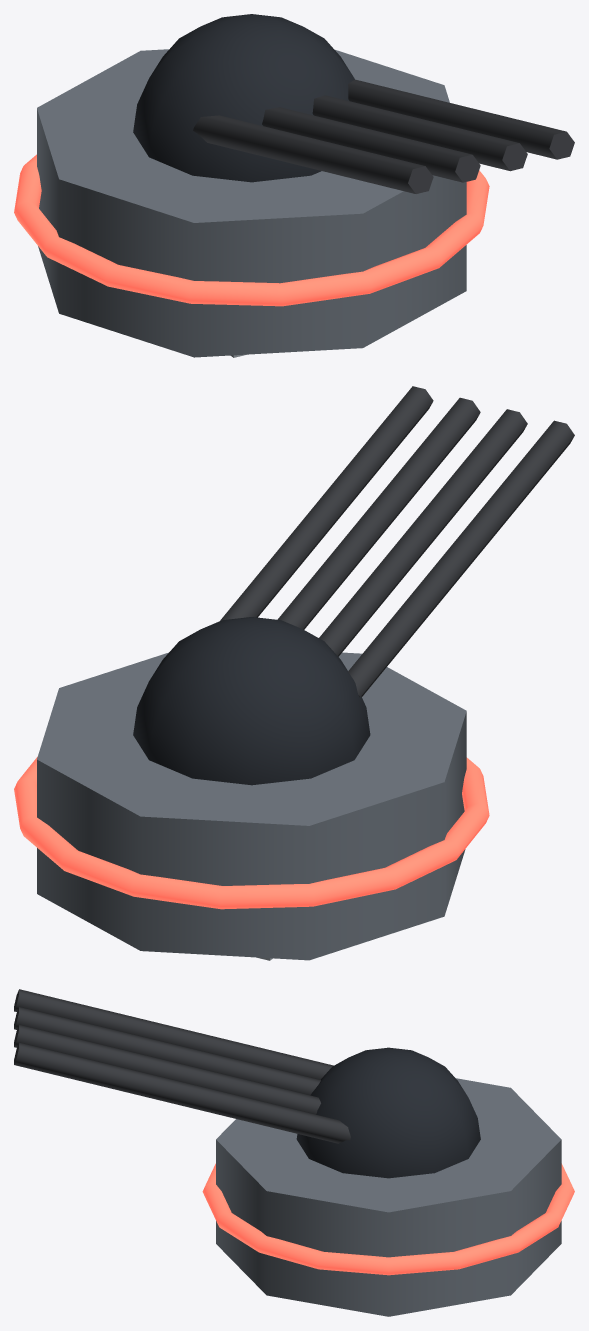
The model's file is space_orbital_battery_t3.glb.
The picture shows the model from 3 angles, top to bottom: view 1: azimuth 30°, elevation 25°; view 2: azimuth 150°, elevation 25°; view 3: azimuth 270°, elevation 25°; orthographic projection. The views are drawn at different scales.
Parts seen in each view (by area): view 1: body, turret; view 2: body, turret; view 3: body, turret.
Part boxes in pixels (box(x1,y1,x2,y2)): body: box(14, 49, 489, 357); turret: box(133, 14, 574, 193); body: box(14, 652, 489, 960); turret: box(133, 386, 574, 785); body: box(202, 1078, 574, 1316); turret: box(14, 989, 480, 1178).
Size of what is drawn, in the model's own units: 9.7 by 7.88 by 14.61.
